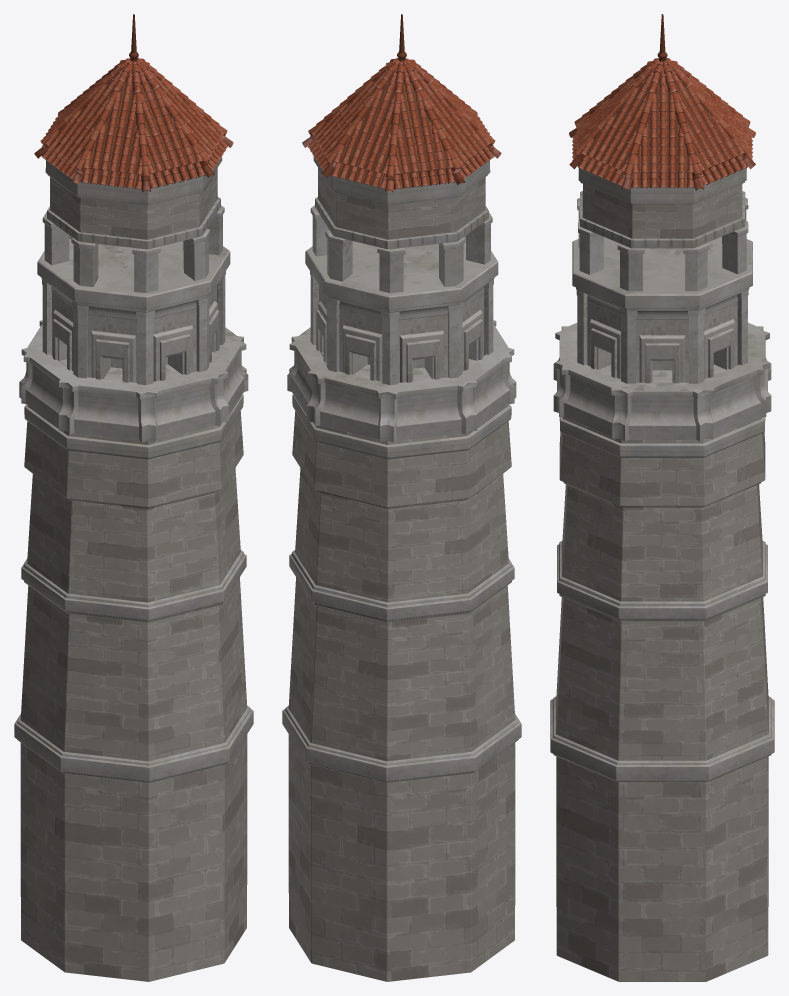
The model's file is SM_Tower_Small.fbx.
3 renders of one model, left to right at view 1: azimuth 30°, elevation 25°; view 2: azimuth 150°, elevation 25°; view 3: azimuth 270°, elevation 25°, orthographic.
Parts seen in each view (by area): view 1: SM_Tower_Small_LOD0; view 2: SM_Tower_Small_LOD0; view 3: SM_Tower_Small_LOD0.
Part boxes in pixels (x1,y1,x2,y2): SM_Tower_Small_LOD0: [14, 14, 253, 981]; SM_Tower_Small_LOD0: [282, 14, 521, 981]; SM_Tower_Small_LOD0: [550, 14, 774, 981].
Size of the model in its own units: 805 by 805 by 3661.
Materials: 5 (5 with a texture image).
